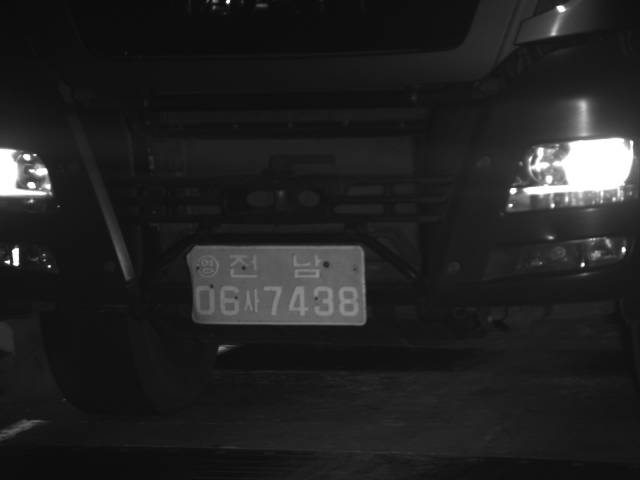car: (1, 1, 639, 416)
plate: (184, 245, 369, 326)
